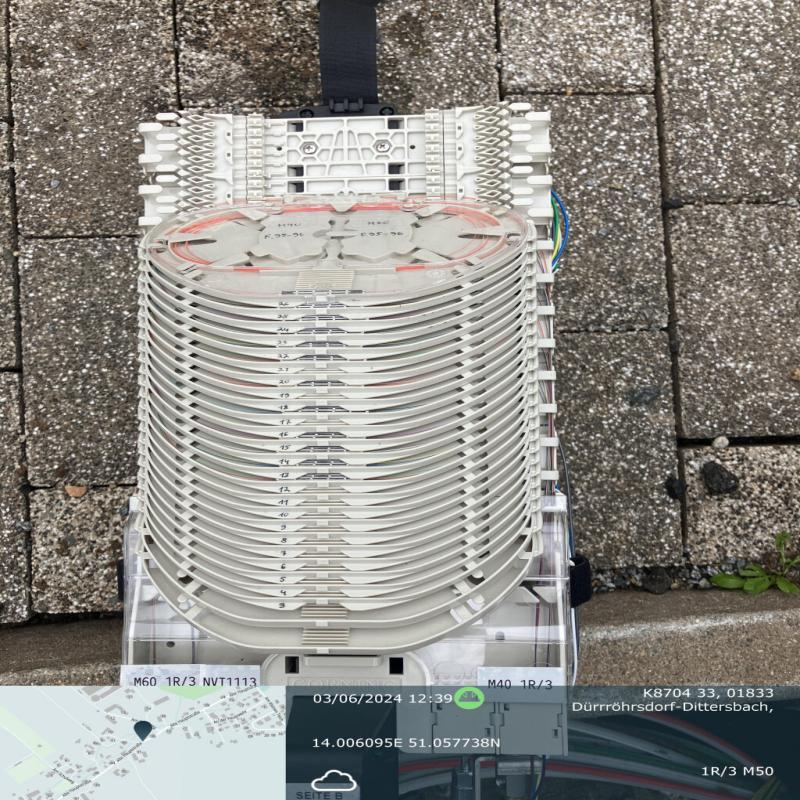NT-Muffen: (123, 100, 588, 688)
